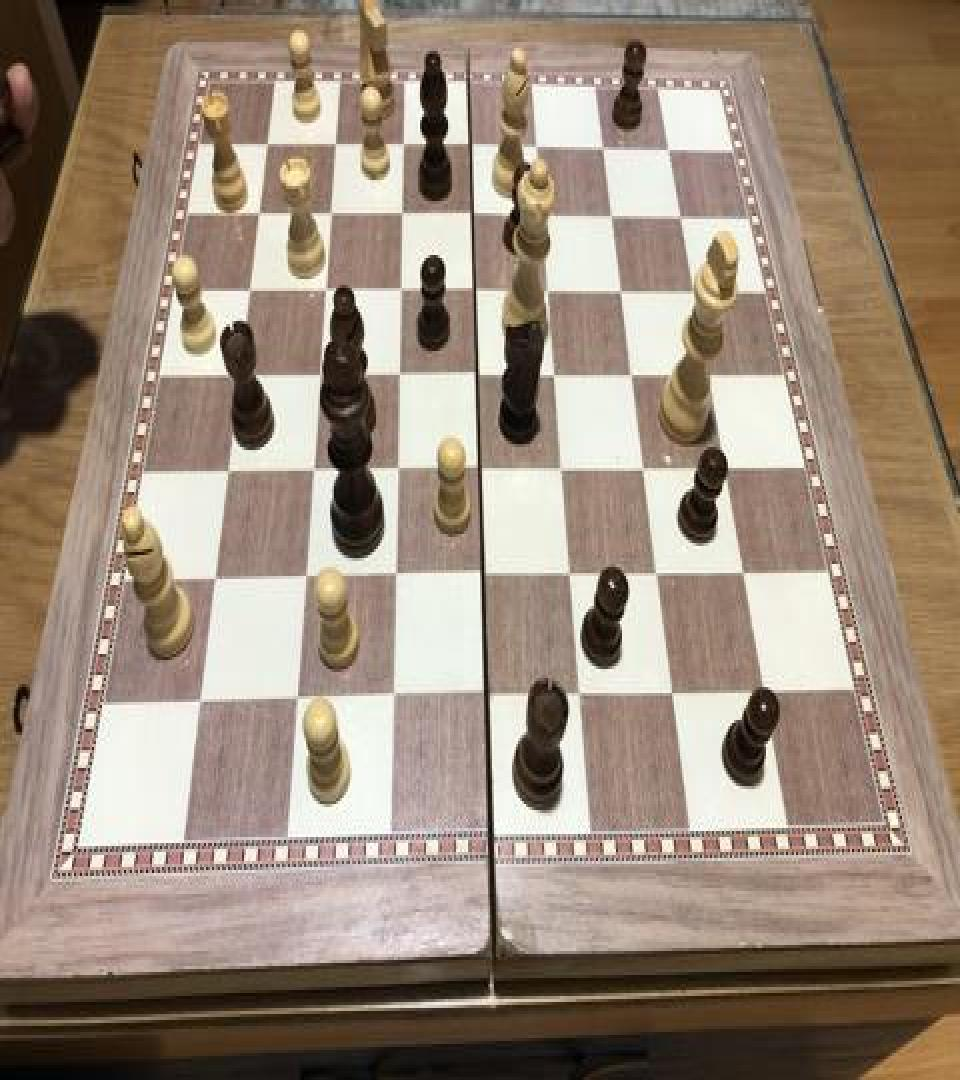xcorner: (320, 190, 346, 230), (248, 190, 274, 230), (682, 268, 708, 308), (610, 268, 636, 308), (537, 268, 563, 308), (466, 352, 492, 392), (388, 352, 414, 392), (308, 352, 334, 392), (228, 352, 254, 392), (302, 448, 328, 488), (216, 448, 242, 488), (647, 550, 673, 590), (294, 556, 320, 596), (382, 676, 408, 716), (188, 682, 214, 722), (656, 126, 682, 165), (591, 126, 617, 165), (526, 125, 552, 164), (459, 125, 485, 164), (392, 123, 418, 162), (325, 123, 351, 162), (461, 192, 487, 231), (391, 192, 417, 231), (464, 267, 490, 306), (389, 267, 415, 306), (314, 267, 340, 306), (238, 267, 264, 306), (697, 351, 723, 390), (621, 351, 647, 390), (544, 351, 570, 390), (714, 444, 740, 483), (633, 444, 659, 483), (469, 447, 495, 486), (386, 447, 412, 486), (733, 549, 759, 588), (560, 552, 586, 591), (384, 555, 410, 594), (203, 558, 229, 597), (754, 667, 780, 706), (663, 669, 689, 708), (570, 672, 596, 711), (477, 675, 503, 714), (285, 680, 311, 719), (256, 122, 282, 160), (669, 194, 695, 232), (600, 194, 626, 232), (531, 194, 557, 232), (552, 446, 578, 484), (473, 554, 499, 592)
